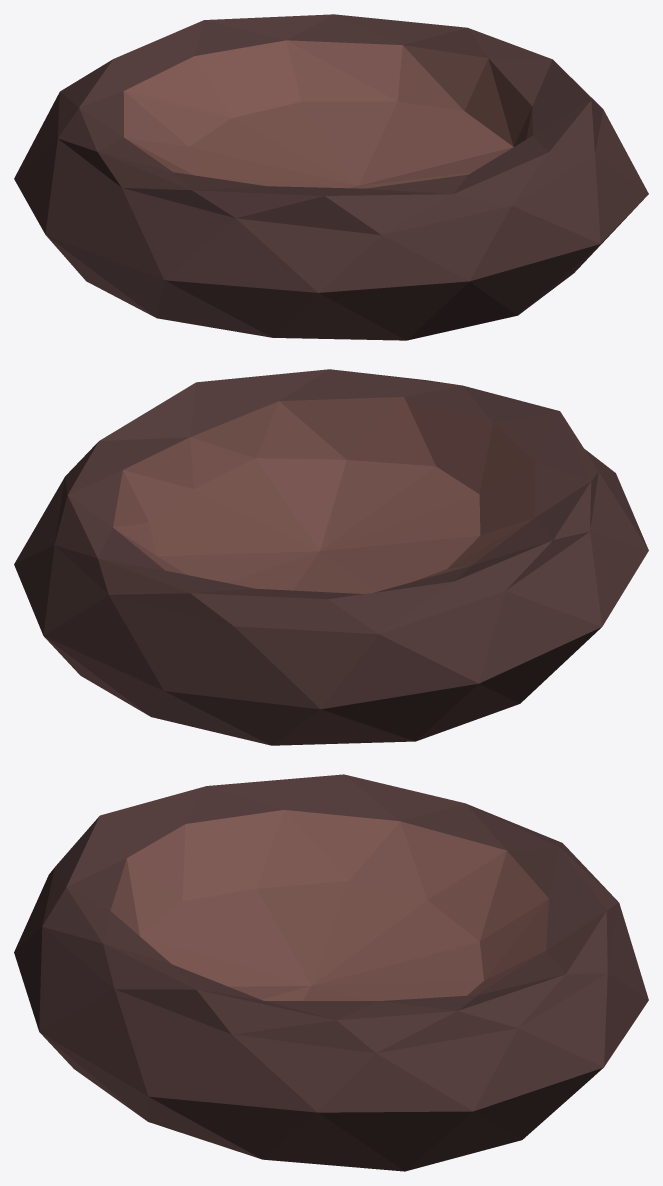
The model's file is DarkWoodDecorationSmallBirdsNest1.fbx.
3 views of the same model, one above another, from view 1: azimuth 30°, elevation 25°; view 2: azimuth 150°, elevation 25°; view 3: azimuth 270°, elevation 25° (orthographic). The views are drawn at different scales.
Parts seen in each view (by area): view 1: DarkWoodDecorationSmallBirdsNest1; view 2: DarkWoodDecorationSmallBirdsNest1; view 3: DarkWoodDecorationSmallBirdsNest1.
Part boxes in pixels (x1,y1,x2,y2): DarkWoodDecorationSmallBirdsNest1: (14,14,648,340); DarkWoodDecorationSmallBirdsNest1: (14,369,648,745); DarkWoodDecorationSmallBirdsNest1: (14,774,648,1171).
Size of the model in its own units: 341 by 108 by 329.
